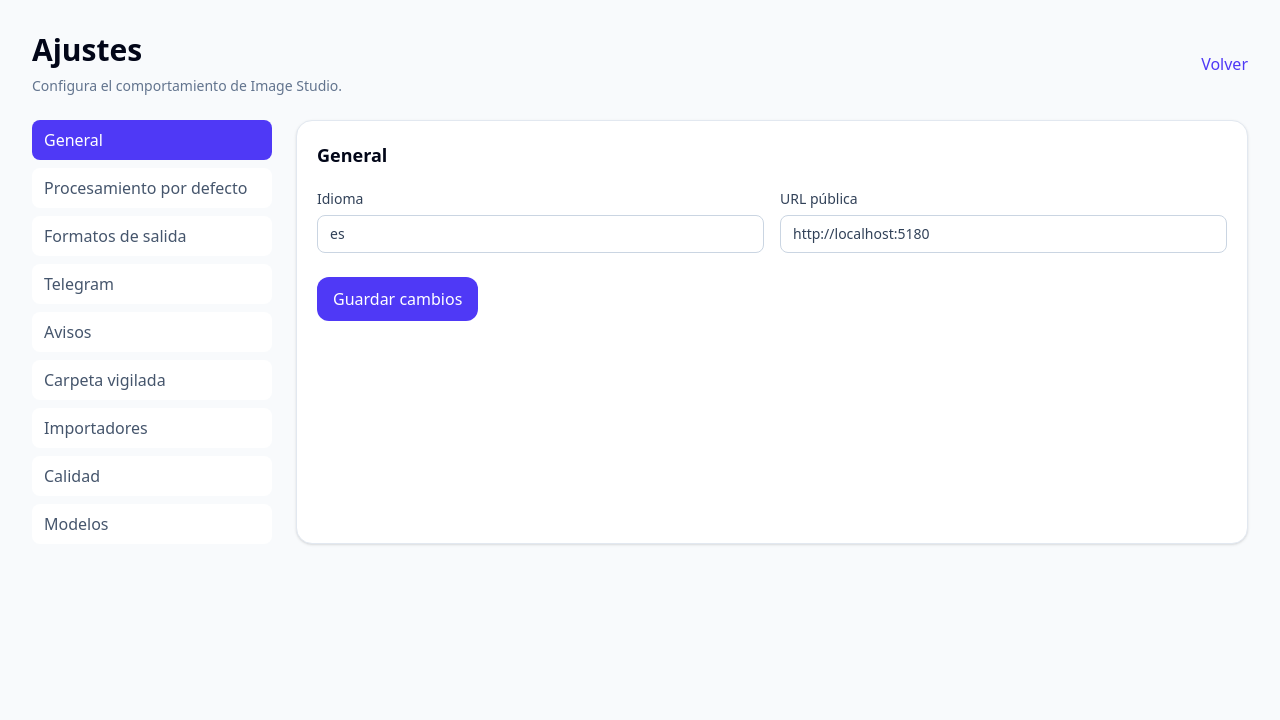
Scenario: muestra el selector de modelo y deshabilita los modelos no instalados
The image size is (1280, 720).
Click the button "Modelos": coordinates (152, 524) [32, 504, 272, 544]
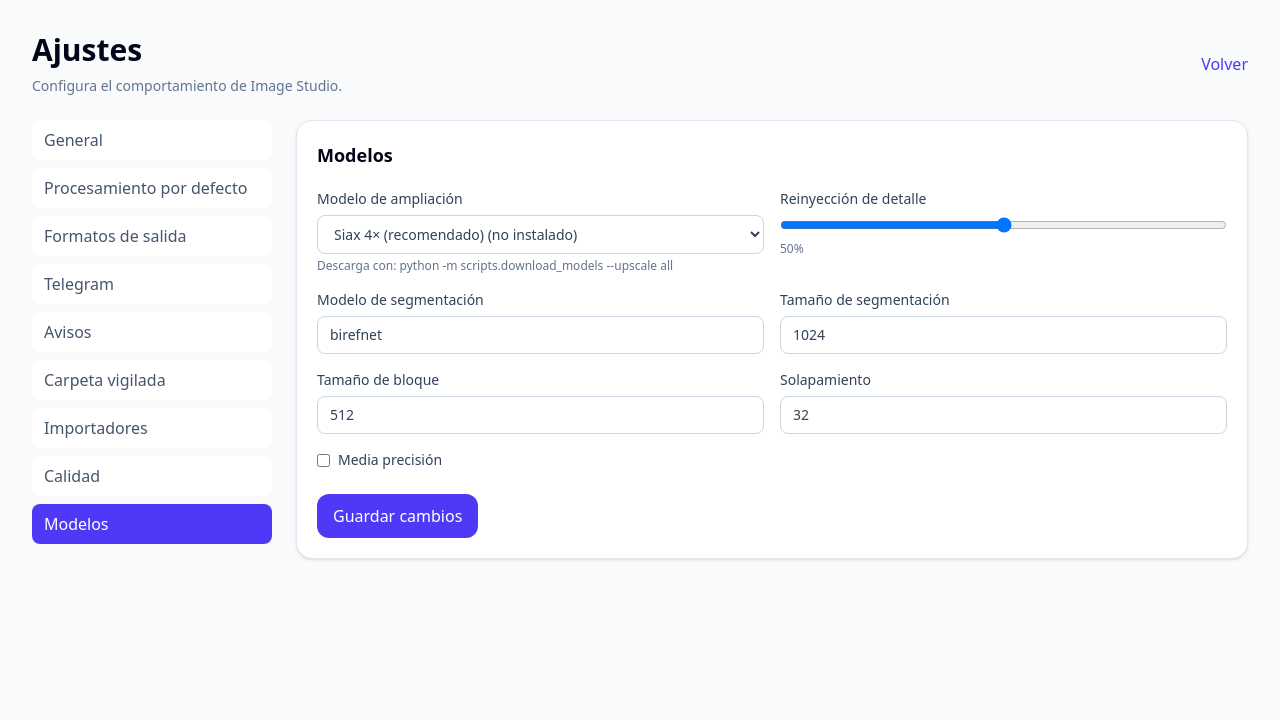
Check: the number field labelled "Tamaño de segmentación" holds "1024", box [780, 316, 1227, 354]
Check: the checkbox labelled "Media precisión" is not checked, box [317, 454, 330, 466]
